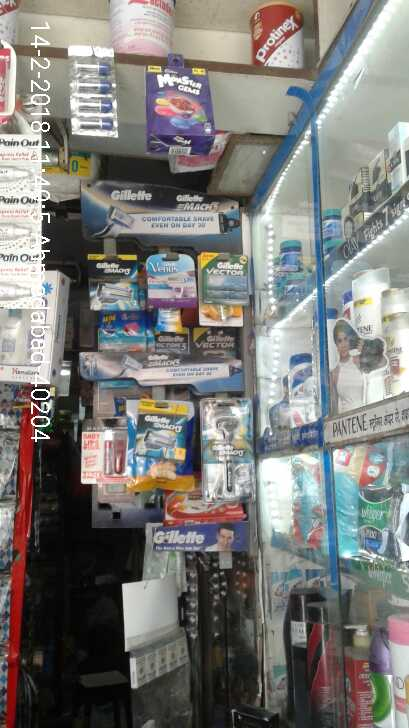beauty: (192, 395, 256, 501), (127, 393, 195, 490), (194, 250, 252, 309), (90, 253, 142, 309), (142, 253, 199, 303), (376, 308, 409, 394), (344, 171, 378, 233), (287, 351, 311, 423), (384, 127, 409, 190)
pharmacy: (283, 457, 329, 556), (351, 482, 405, 558), (273, 240, 308, 278)
